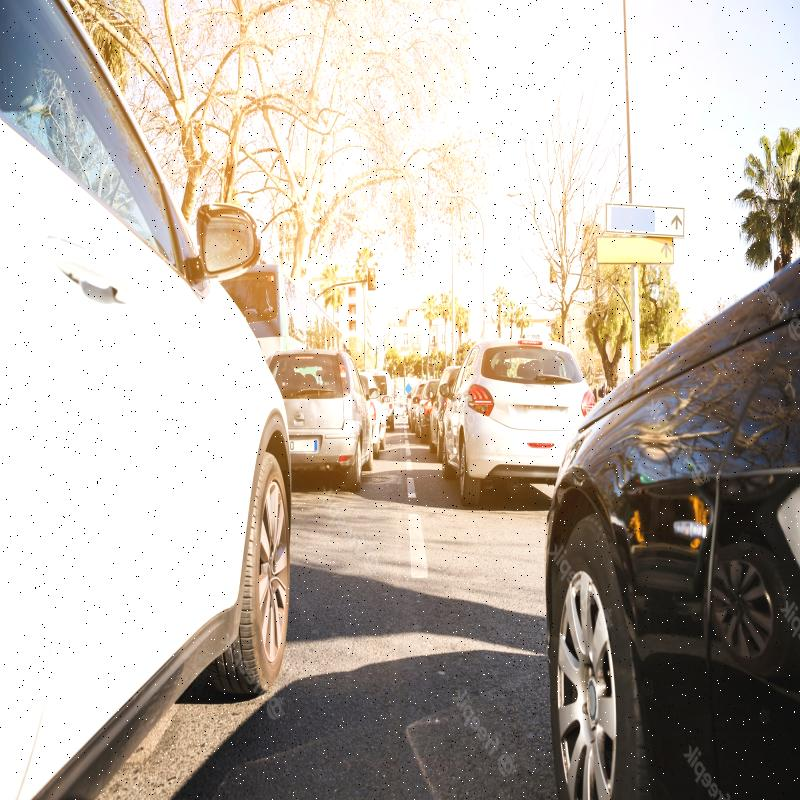car: (0, 30, 295, 799), (518, 236, 798, 800), (443, 321, 608, 493), (260, 324, 388, 490)
